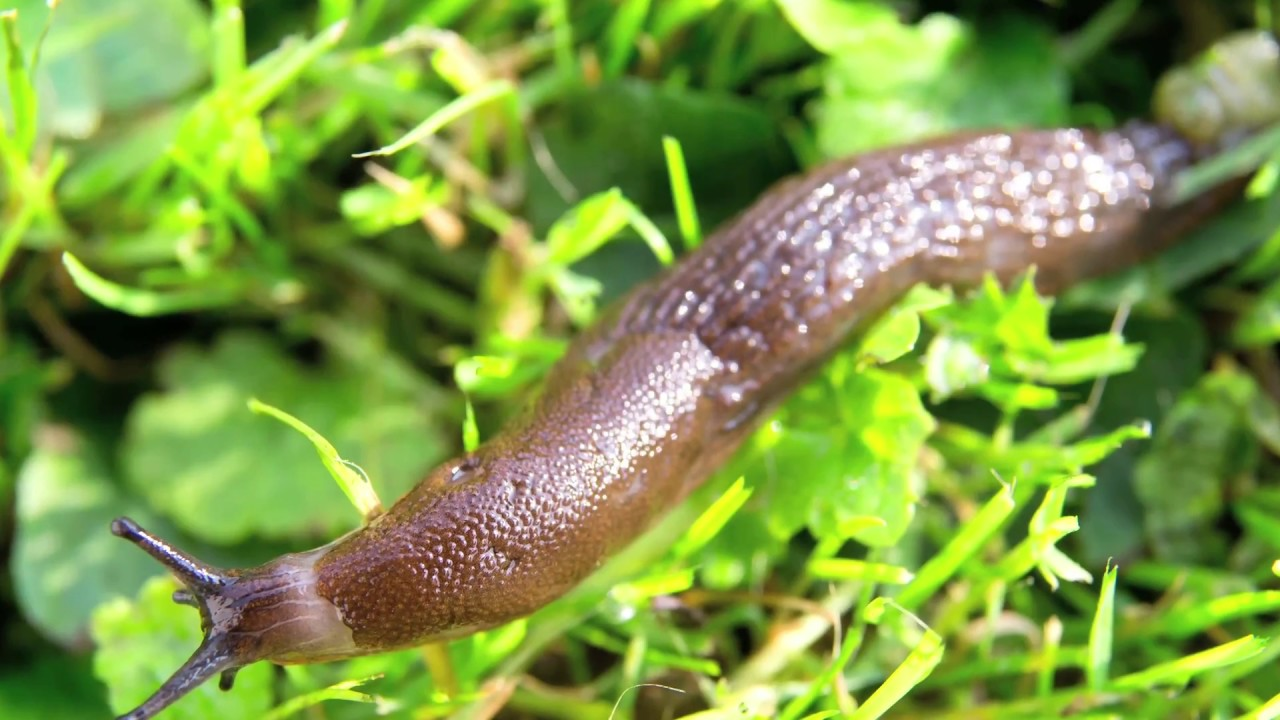slug: (102, 124, 1157, 720)
